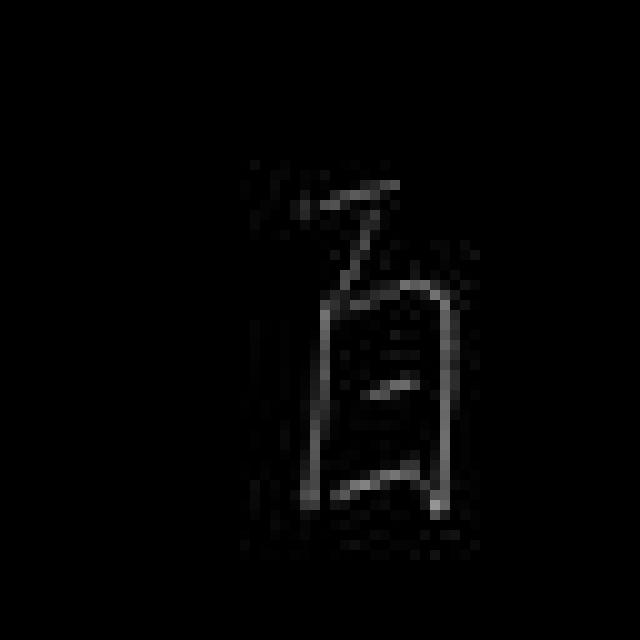100 -a hundred-: (282, 169, 463, 526)
